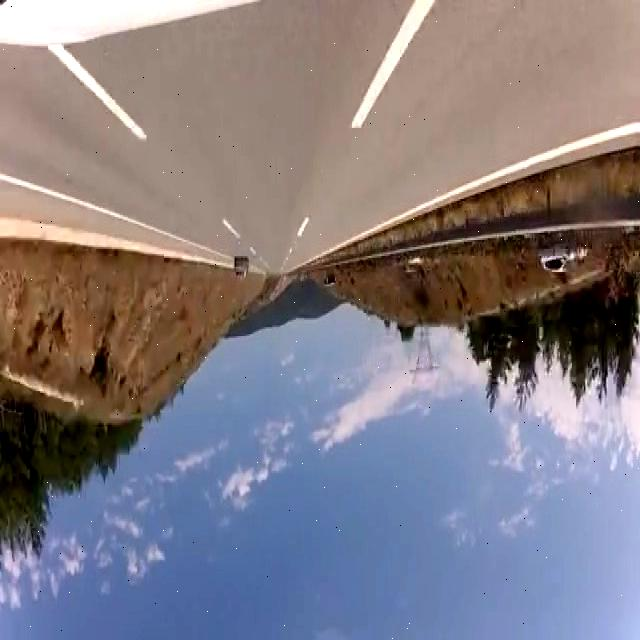lane: (353, 2, 434, 128), (49, 44, 147, 139)
road: (1, 4, 640, 274)
